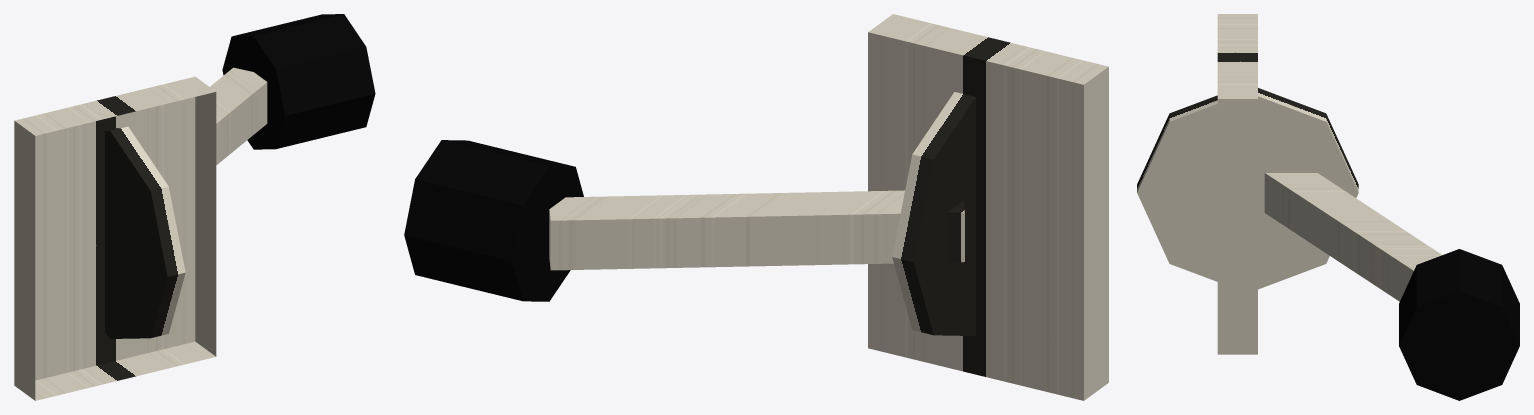
File: QuatTreoTuong.glb
3 views of the same model, side by side, from view 1: azimuth 30°, elevation 25°; view 2: azimuth 150°, elevation 25°; view 3: azimuth 270°, elevation 25° (orthographic). The views are drawn at different scales.
Parts seen in each view (by area): view 1: geometry_0; view 2: geometry_0; view 3: geometry_0.
Boxes of the visible parts, x1,y1,x2,y2 form: geometry_0: (14,14,375,400); geometry_0: (404,14,1108,400); geometry_0: (1137,14,1519,400).
Bounding box in the file's own units: 0.24 × 0.14 × 0.19.
1 material, 1 textured.
